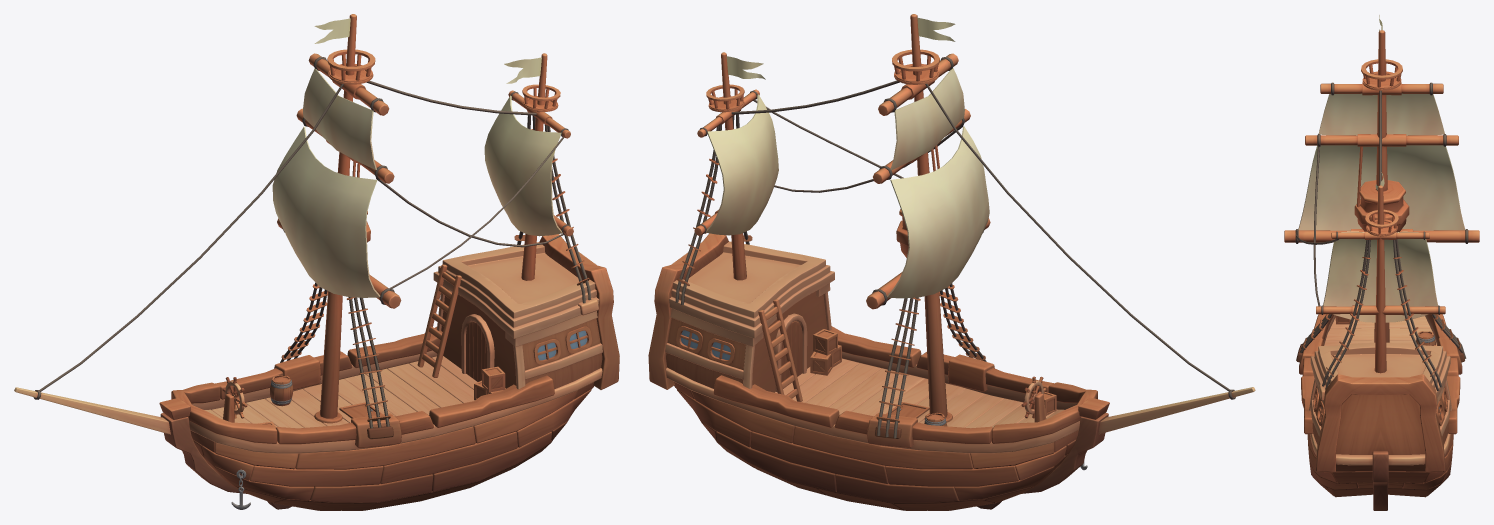
The model's file is ship.glb.
The picture shows the model from 3 angles, left to right: view 1: azimuth 30°, elevation 25°; view 2: azimuth 150°, elevation 25°; view 3: azimuth 270°, elevation 25°; orthographic projection. The views are drawn at different scales.
Visible parts, largest first — view 1: Plane.026, Plane.011, Plane.005, Plane.007, Plane.015, Plane.032, Plane.004, Plane.006, Plane.010, Plane.002, Circle.001, Plane.001 (+17 smaller); view 2: Plane.026, Plane.011, Plane.005, Plane.007, Plane.015, Plane.032, Plane.004, Plane.006, Plane.010, Circle.001, Plane.002, Plane.001 (+16 smaller); view 3: Plane.011, Plane.032, Plane.006, Plane.002, Plane.010, Plane.005, Circle.004, Plane.026, Circle.001, Plane.007, BézierCurve.005, Plane.015 (+15 smaller).
Boxes of the visible parts, x1,y1,x2,y2 form: Plane.026: (190, 382, 593, 510); Plane.011: (272, 126, 380, 297); Plane.005: (433, 242, 599, 346); Plane.007: (171, 326, 554, 444); Plane.015: (204, 356, 477, 428); Plane.032: (484, 95, 562, 236); Plane.004: (189, 350, 602, 453); Plane.006: (441, 295, 602, 389); Plane.010: (303, 68, 376, 169); Plane.002: (539, 234, 619, 389); Circle.001: (320, 14, 370, 418); Plane.001: (159, 398, 291, 509); Plane.026: (674, 382, 1078, 510); Plane.011: (887, 126, 989, 298); Plane.005: (669, 241, 834, 346); Plane.007: (713, 326, 1097, 443); Plane.015: (775, 358, 1063, 428); Plane.032: (706, 94, 778, 235); Plane.004: (666, 352, 1079, 453); Plane.006: (666, 291, 827, 392); Plane.010: (890, 68, 964, 170); Circle.001: (896, 14, 947, 417); Plane.002: (648, 233, 728, 389); Plane.001: (977, 397, 1109, 509); Plane.011: (1298, 145, 1465, 230); Plane.032: (1323, 231, 1438, 322); Plane.006: (1312, 386, 1448, 454); Plane.002: (1315, 374, 1445, 472); Plane.010: (1318, 93, 1444, 135); Plane.005: (1310, 342, 1450, 404); Circle.004: (1284, 83, 1479, 242); Plane.026: (1307, 434, 1453, 496); Circle.001: (1354, 30, 1409, 342); Plane.007: (1301, 305, 1460, 434); BézierCurve.005: (1322, 239, 1442, 390); Plane.015: (1324, 316, 1436, 345).
Size of the model in its own units: 2.6 by 2.08 by 0.8814.
1 material, 1 textured.
